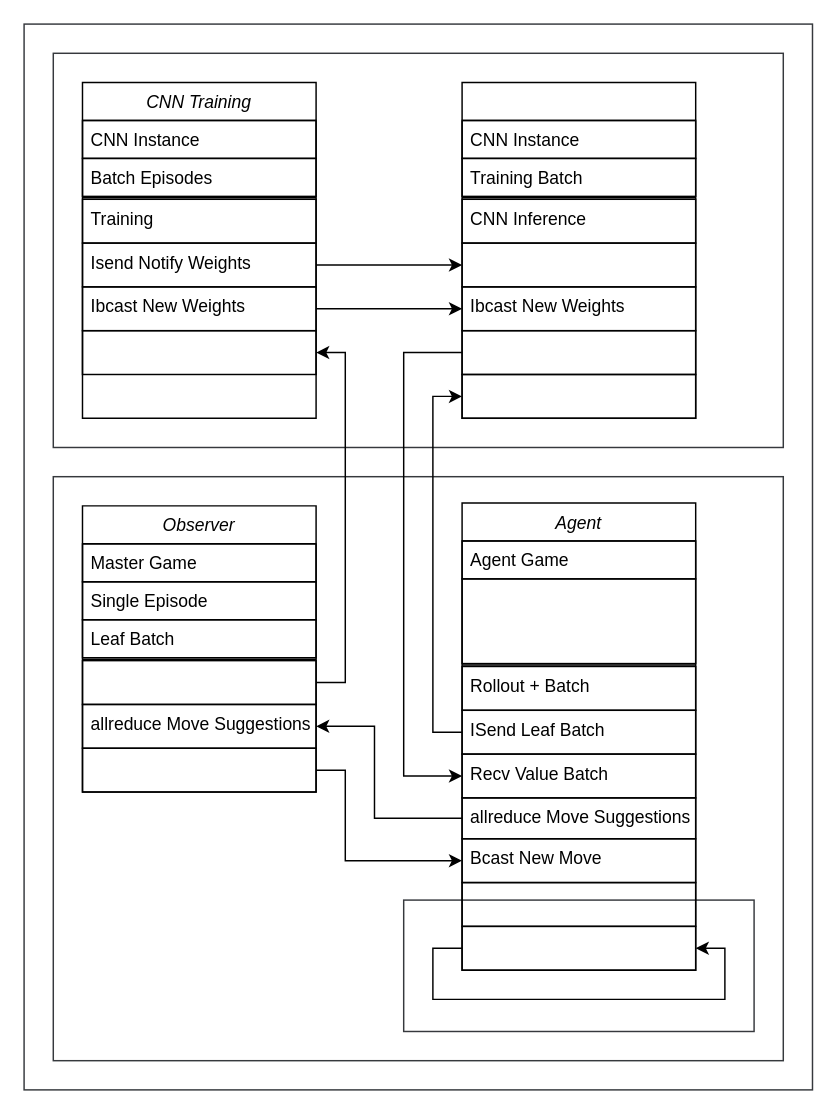
This 837x1114 diagram has some shape labels left out. Here are the shapes that lost their labels. From the top down, the box of each, then its label:
(461, 81, 696, 418): CNN Evalution
(461, 242, 696, 287): Irecv notify weights ready
(81, 329, 316, 374): IRecv Episode
(461, 329, 696, 374): Isend Value Batch
(461, 373, 696, 418): Irecv Leaf Batch
(461, 577, 696, 664): MC TREE
(81, 659, 316, 704): Isend Episode
(81, 747, 316, 792): Bcast Next Move
(461, 925, 696, 970): Bcast New Leaf Nodes
